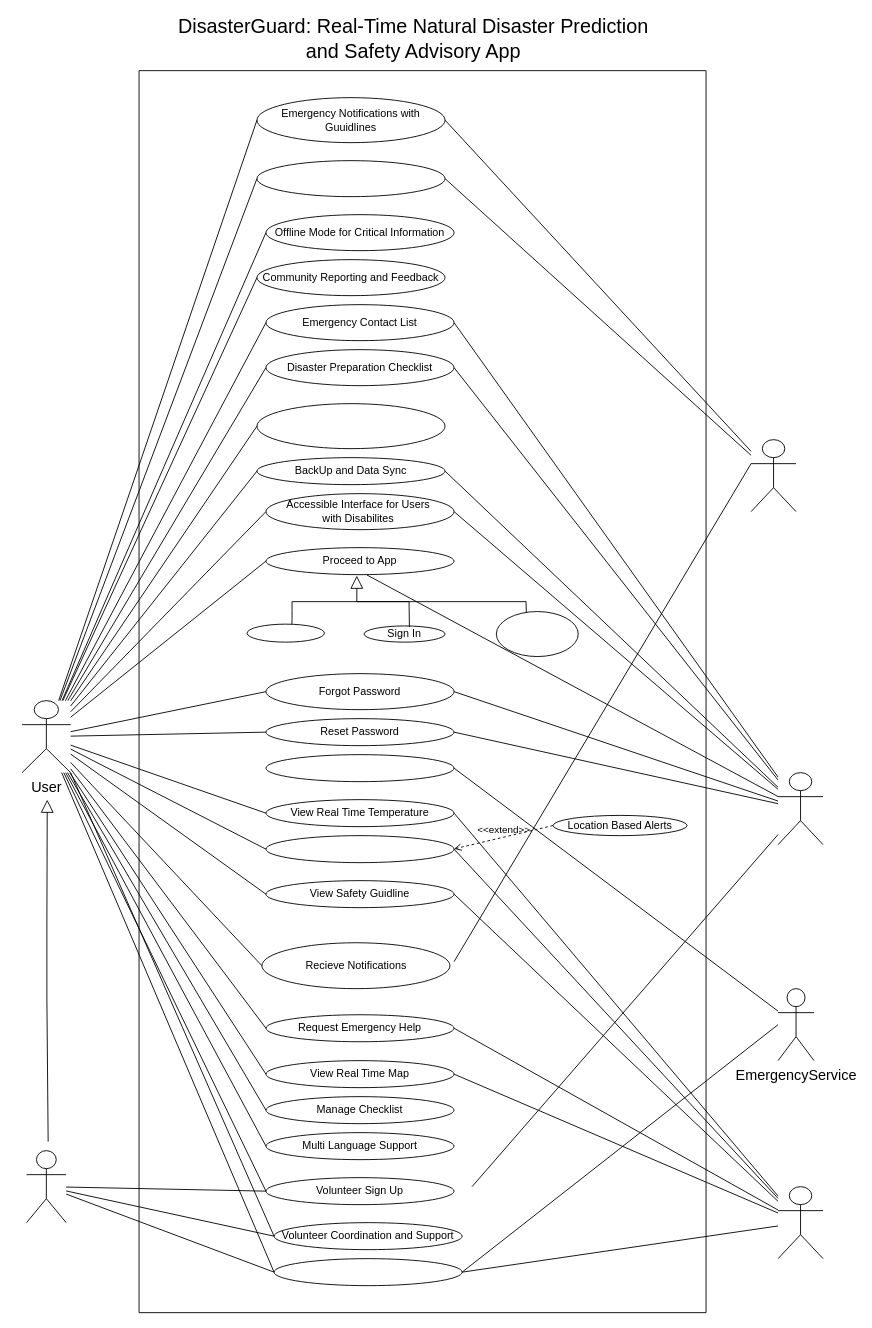
Some shapes in this 872 by 1328 pixel diagram are drawn without their labels. Here are the shapes that lost their labels. From the top down, the centre of each, then its label:
[350,178]: Regular Notifications Alerts
[350,426]: Weather and Disaster Educational Resources
[773,475]: NotificationService
[285,632]: Sign Up
[536,634]: Continue Without Sign In/ Sign Up
[359,768]: Submit Emergency Report
[800,808]: System
[359,849]: View Disaster Alerts and Forecasts
[46,1186]: Volunteer
[800,1222]: LocationService
[367,1272]: Emergency Rescue Request
